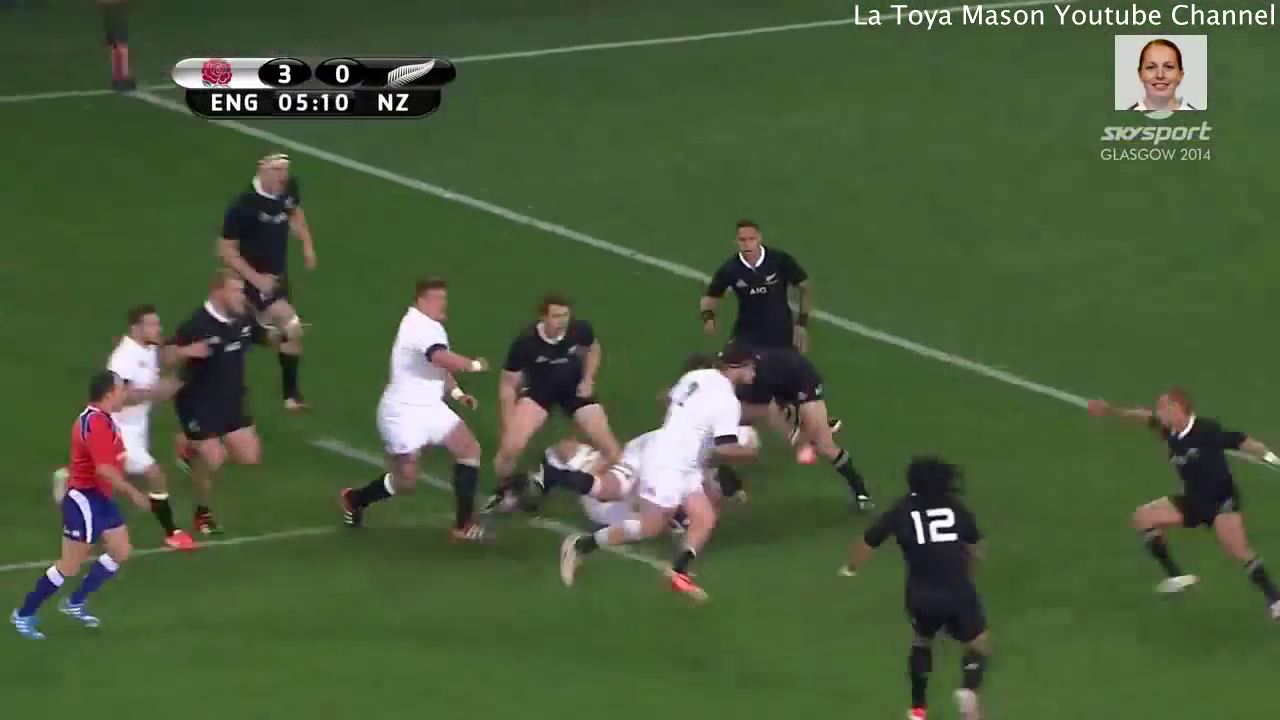ball: (714, 415, 769, 466)
player: (529, 347, 770, 614), (833, 450, 1022, 720), (1073, 384, 1280, 619), (327, 273, 491, 559), (1, 362, 136, 655), (707, 346, 884, 508), (494, 286, 607, 493), (162, 276, 273, 481), (691, 220, 811, 348), (214, 150, 312, 290), (110, 293, 166, 499)
